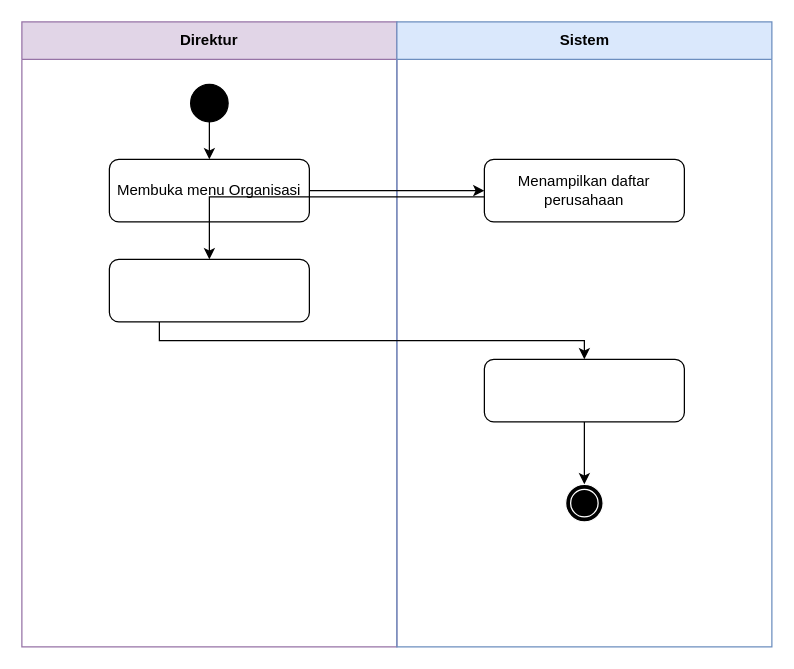
Image size: 794x669. Some labels were removed from this diagram. Here are the shapes that lost their labels. From the top down, the centre of each, then its label:
point (208, 290): Memilih detail organisasi
point (583, 390): Menampilkan informasi detail
